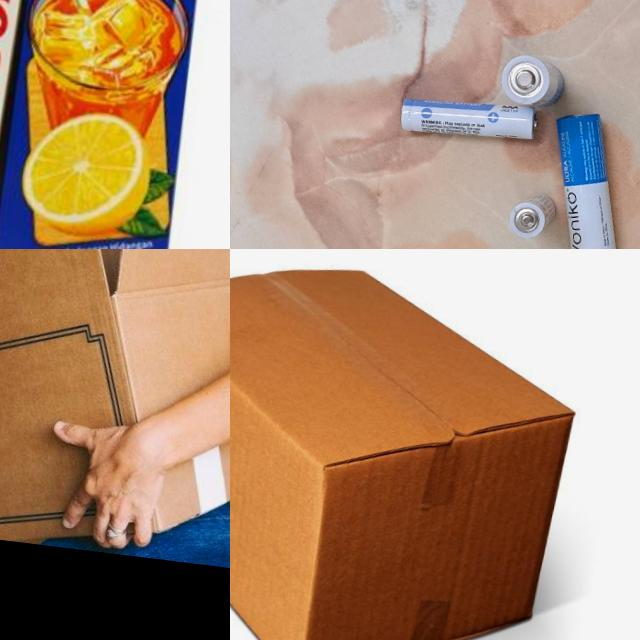bateria: (537, 107, 636, 249), (399, 92, 538, 148), (498, 52, 568, 111), (506, 190, 558, 240)
caixinha: (0, 0, 227, 249)
garrafa plástica: (230, 249, 590, 640)
papelão: (0, 249, 230, 572)
